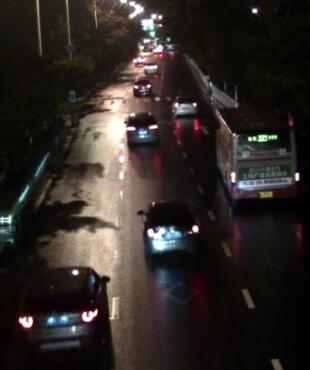bus: (212, 106, 302, 205)
car: (13, 265, 113, 363), (135, 198, 202, 262), (122, 114, 159, 145), (171, 95, 198, 116), (132, 75, 152, 95), (143, 58, 160, 74), (132, 55, 146, 65)
